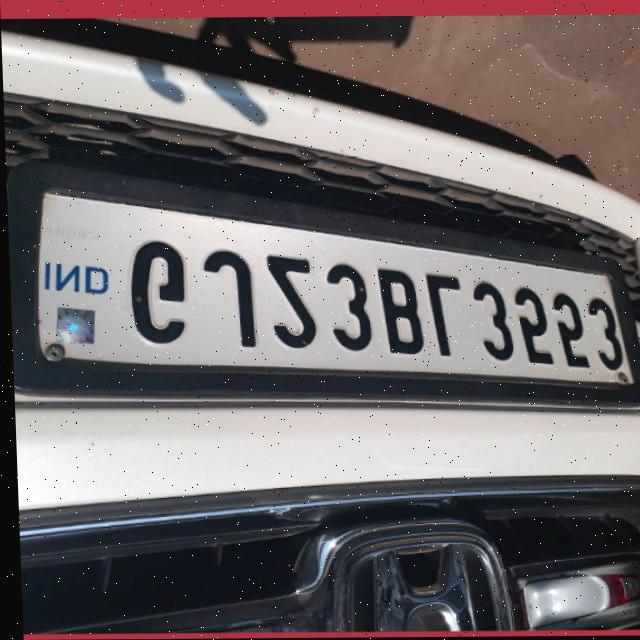plate: (4, 148, 640, 421)
